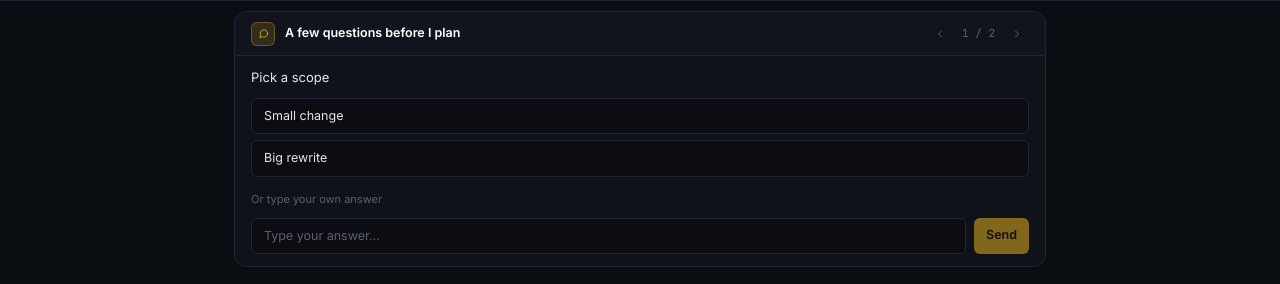
Test: QuestionsDock › clicking Prev returns to the previous question with the prior choice still highlighted
Click the button "Small change" at (304, 115), box left=251, top=98, right=1029, bottom=134
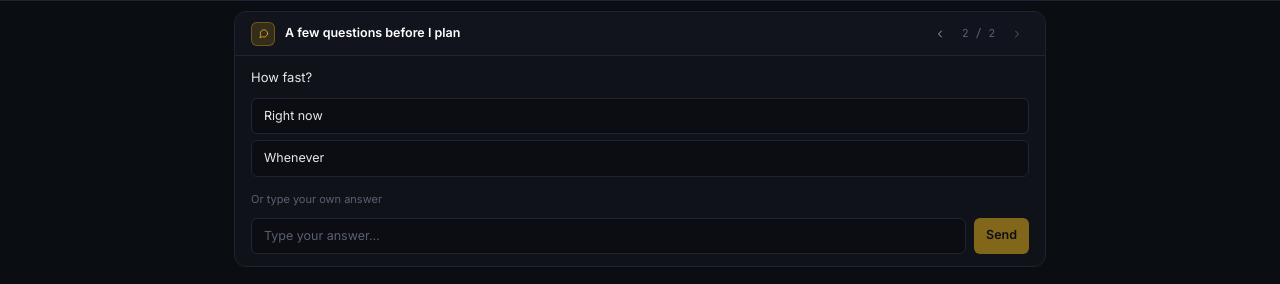
Result: the text "How fast?" is shown at left=251, top=69, right=312, bottom=85
Note: Navigate back.
Click the button named "Previous question" at (940, 34), box left=928, top=22, right=952, bottom=46
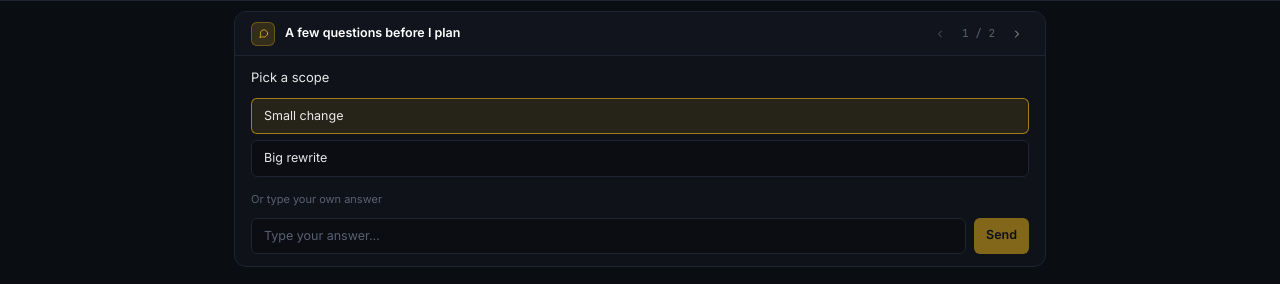
Result: the text "Pick a scope" is shown at left=251, top=69, right=329, bottom=85
Result: the text "1 / 2" is shown at left=962, top=25, right=995, bottom=42
